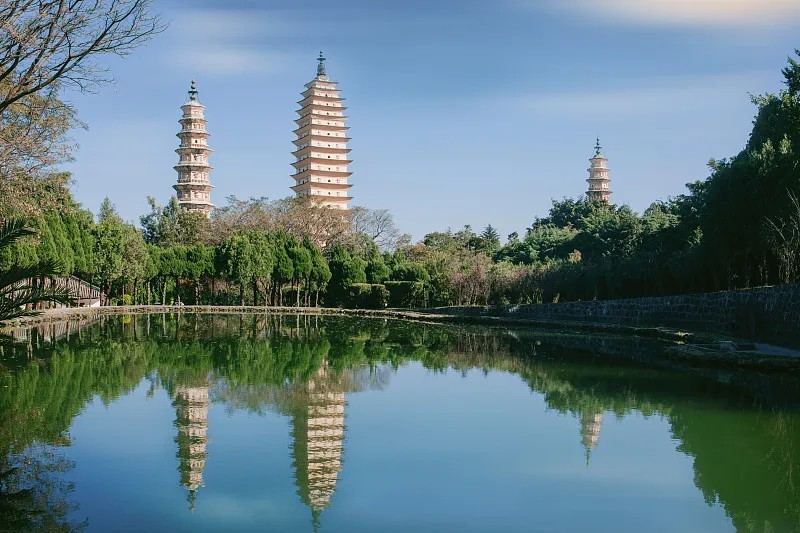ThreePagoda: (289, 51, 354, 212)
